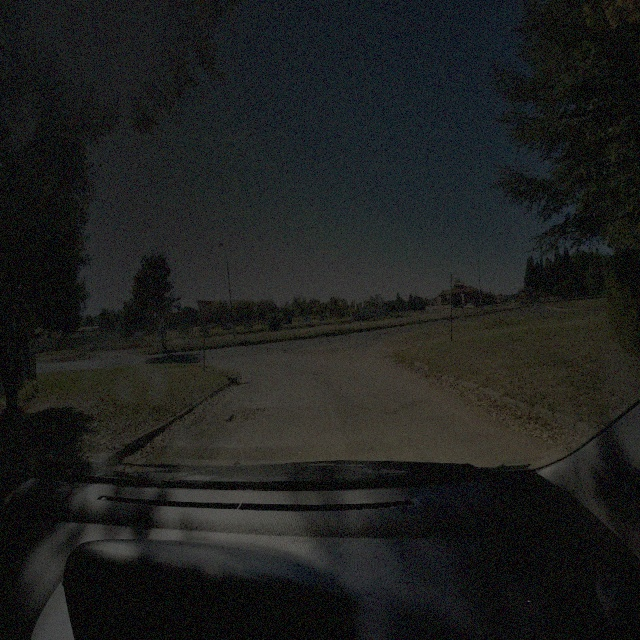pothole: (224, 404, 268, 424)
